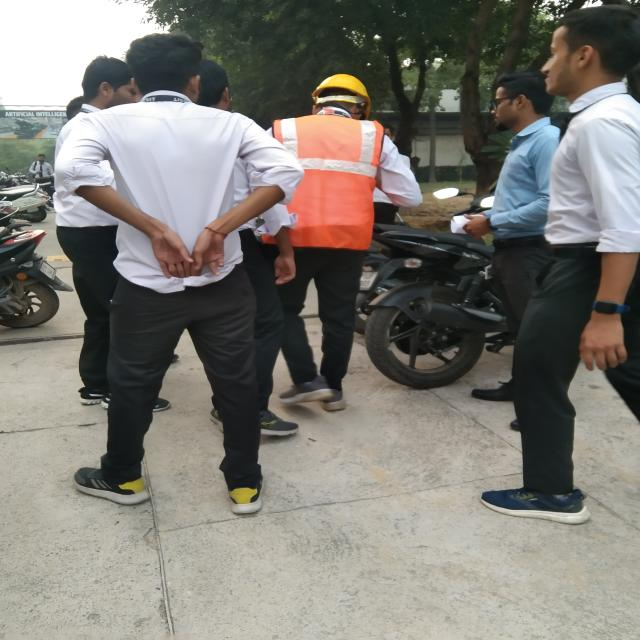safe: (276, 68, 412, 426)
unsafe: (109, 36, 273, 518), (531, 8, 640, 545), (475, 78, 550, 400)
